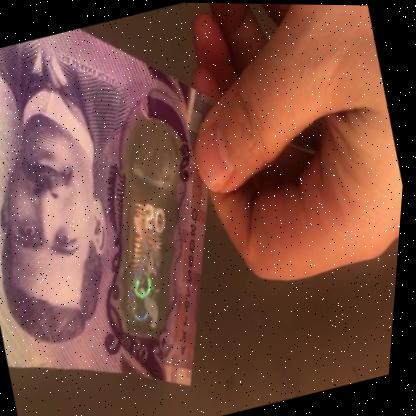50F: (82, 132, 218, 338)
